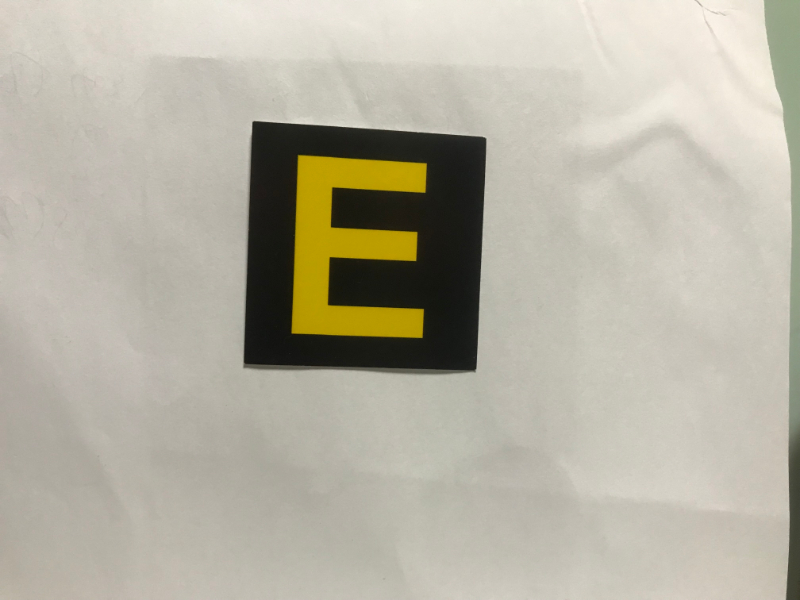E-15: (256, 138, 473, 363)
